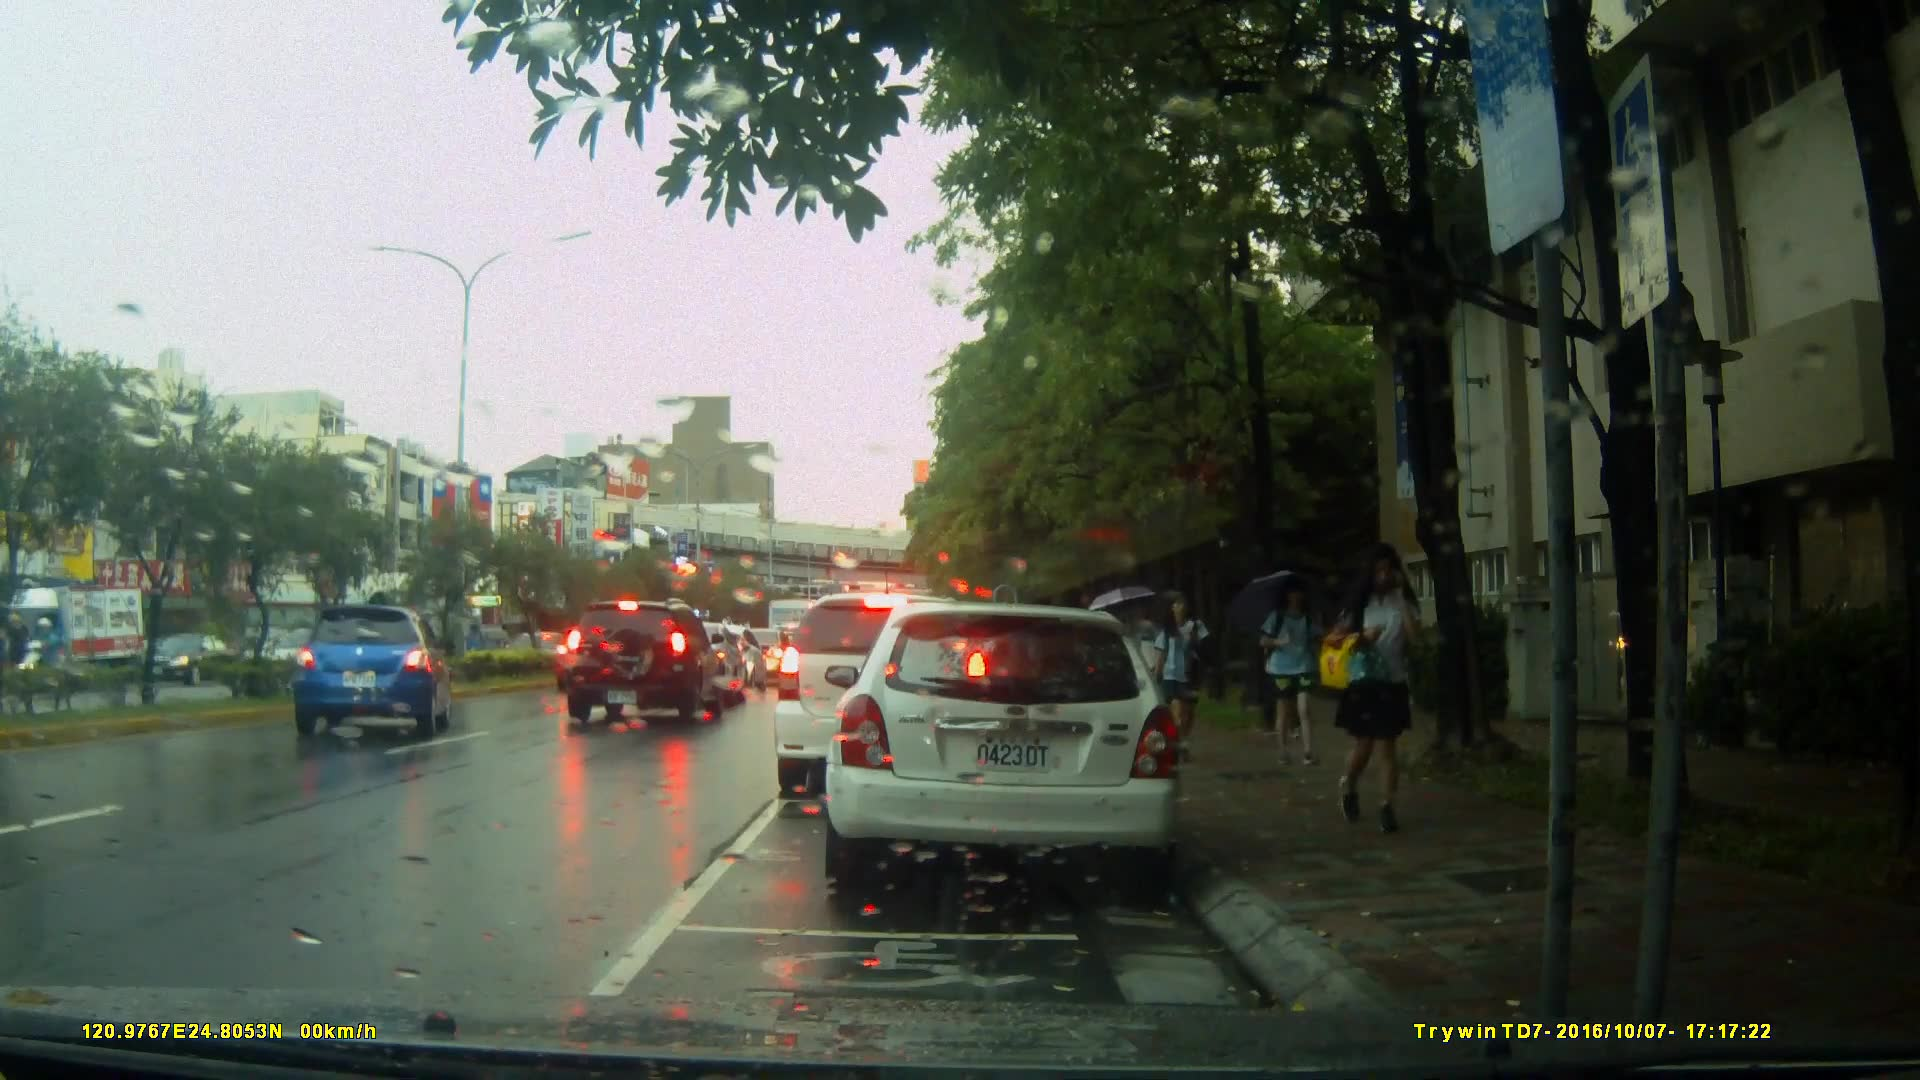pedestrian: (1338, 537, 1436, 841), (1264, 580, 1322, 772), (1155, 580, 1210, 758)
vehicle: (815, 593, 1204, 909), (771, 590, 995, 802), (292, 603, 454, 747), (558, 598, 728, 728), (1, 584, 150, 686)
